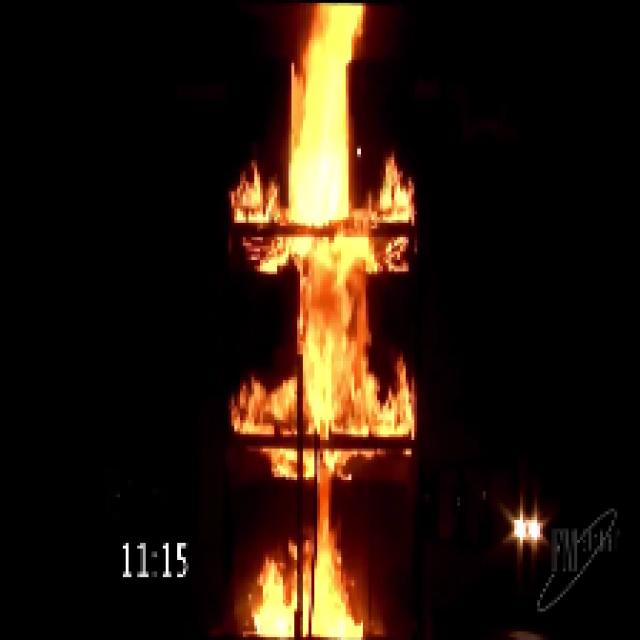fire: (262, 0, 383, 635)
